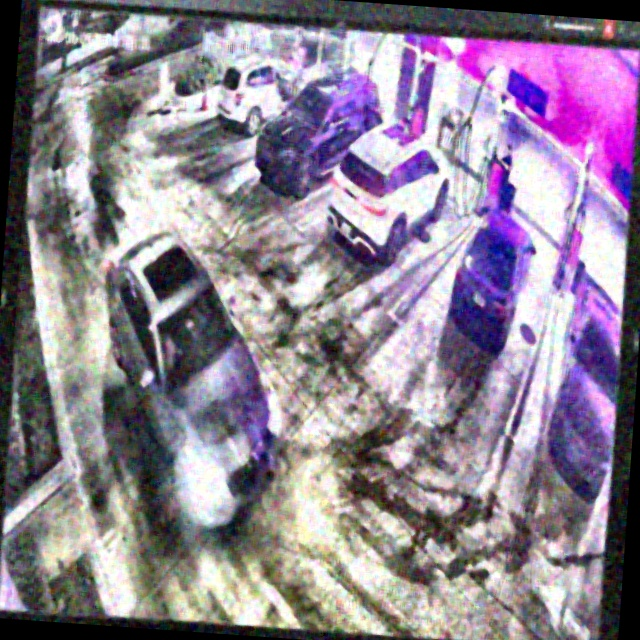Car: (83, 222, 291, 527), (322, 119, 453, 266), (251, 67, 384, 201), (448, 208, 536, 356)
